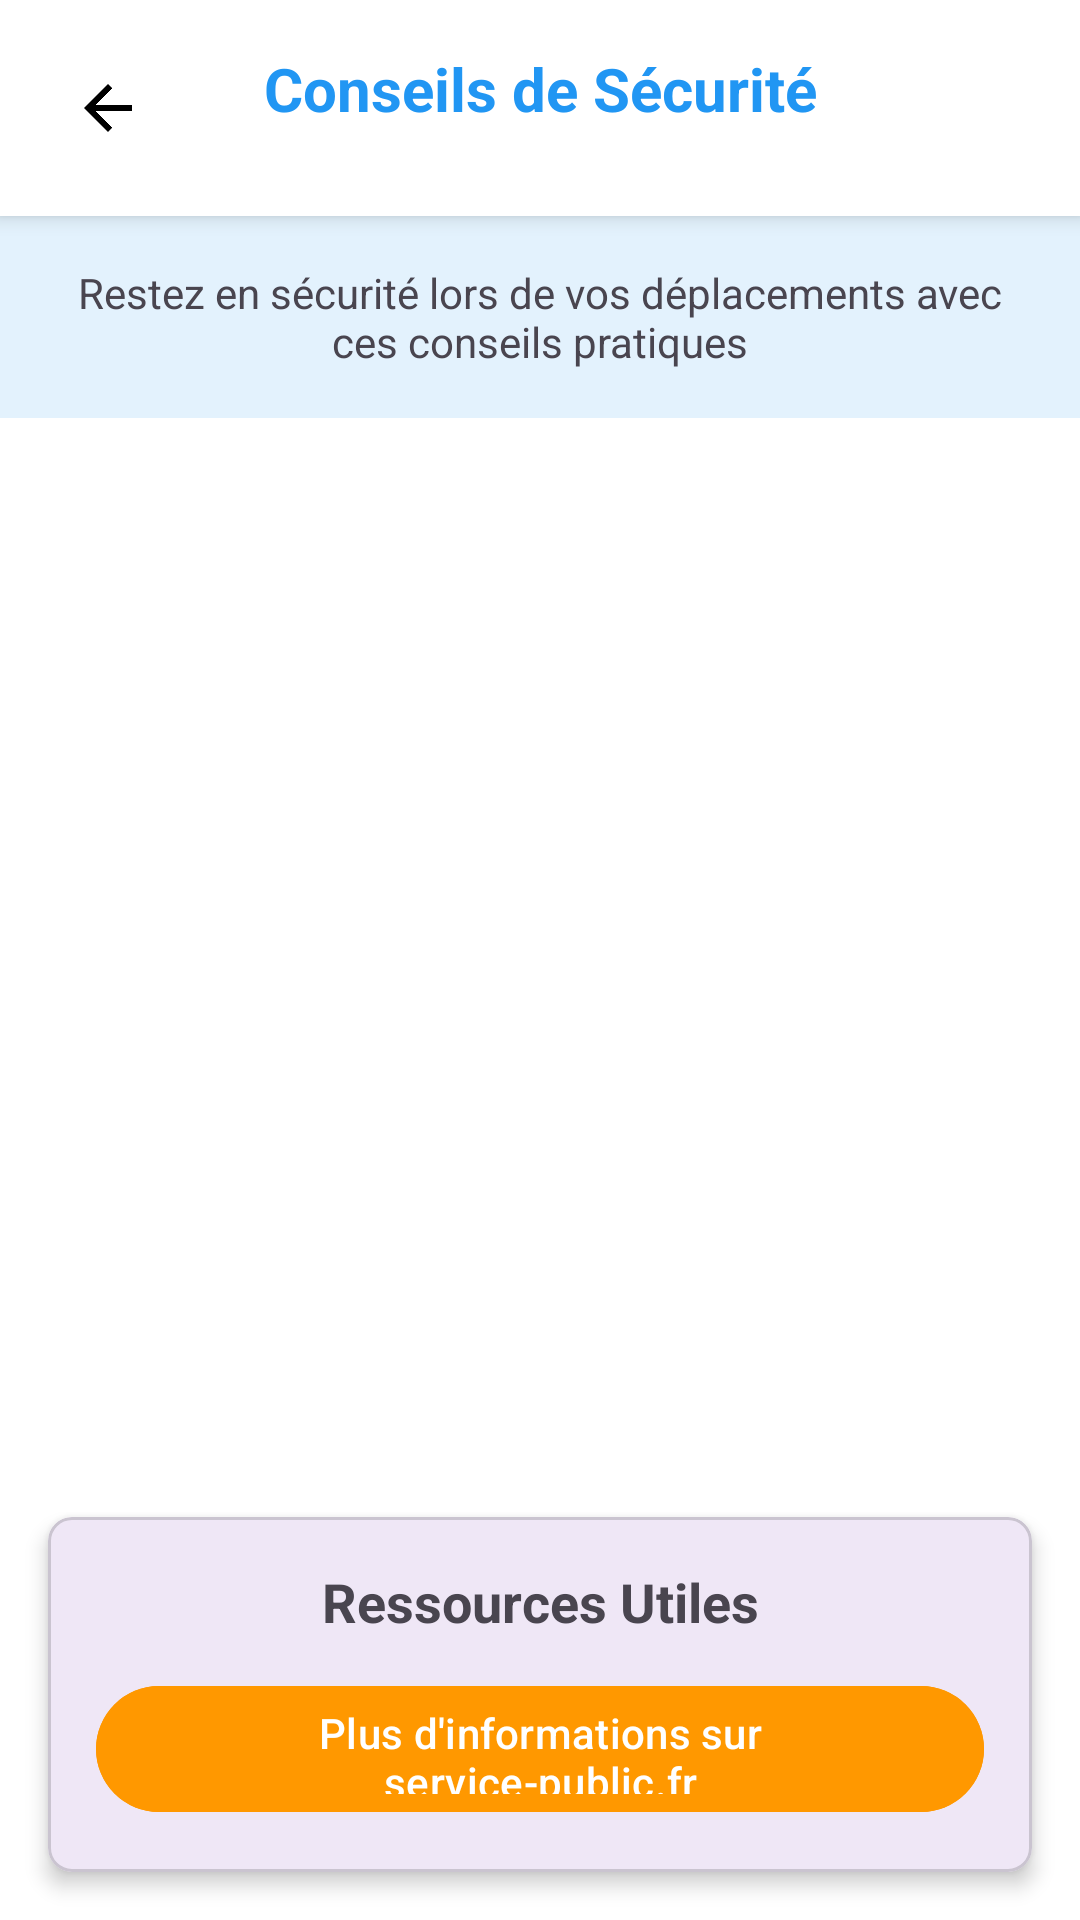

Screen size 1080x1920. Icon name, then its center in pixels as [x,y]:
Retour: [108,108]
